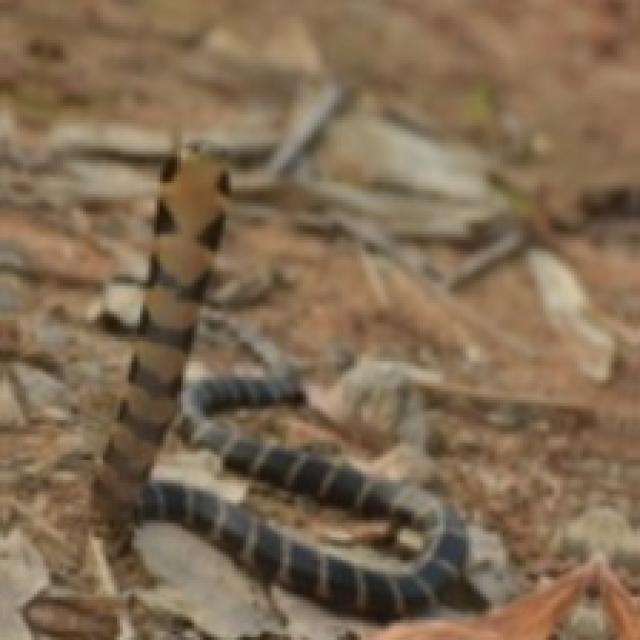king cobra: (97, 154, 520, 620)
